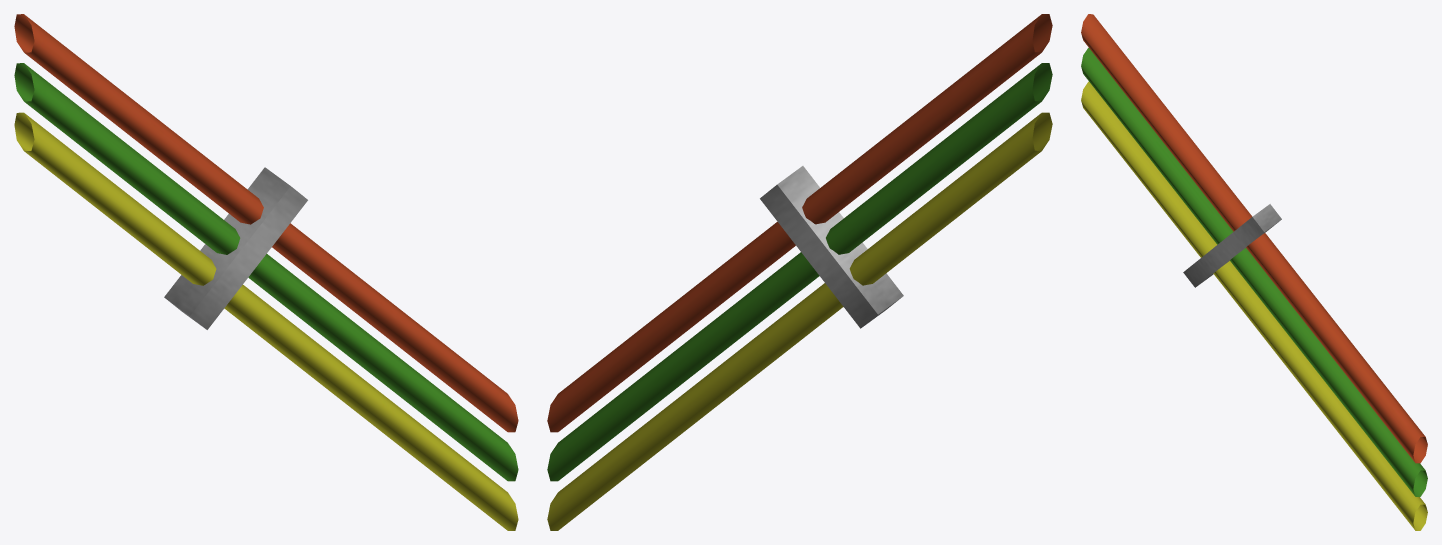
File: PipeDiagonal2.FBX
The picture shows the model from 3 angles, left to right: view 1: azimuth 30°, elevation 25°; view 2: azimuth 150°, elevation 25°; view 3: azimuth 330°, elevation 25°; orthographic projection. The views are drawn at different scales.
Visible parts, largest first — view 1: Line001; view 2: Line001; view 3: Line001.
Boxes of the visible parts, x1,y1,x2,y2 form: Line001: (14, 14, 518, 530); Line001: (547, 14, 1052, 530); Line001: (1081, 14, 1427, 530).
Bounding box in the file's own units: 39.36 × 49.35 × 3.65.
1 material, 1 textured.
